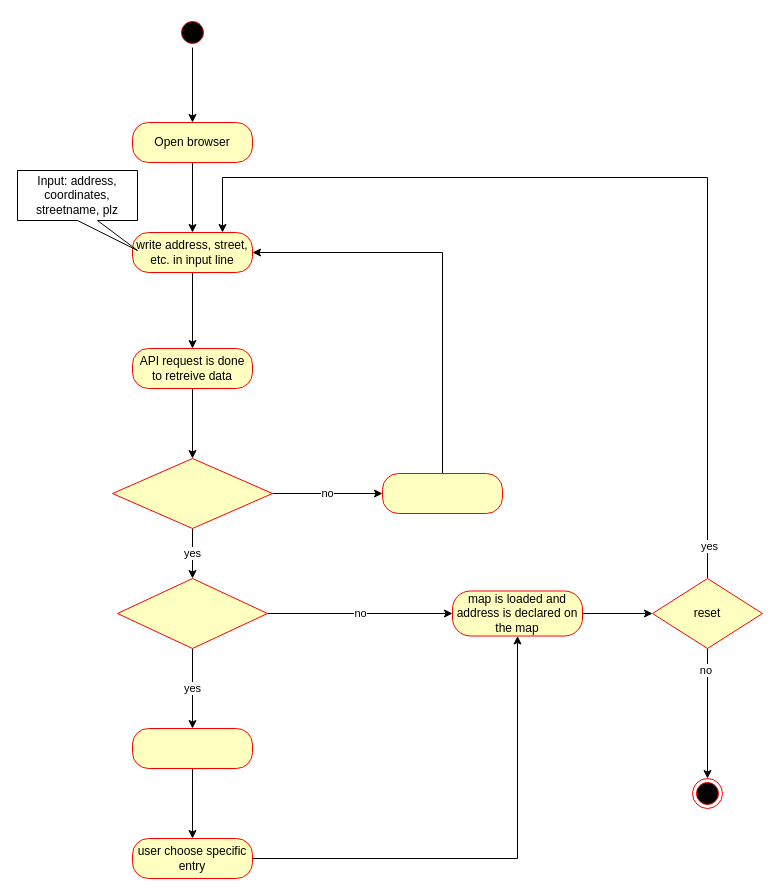
This 780x896 diagram has some shape labels left out. Each missing label, with the centre of its shape:
found results: [192,493]
Info to frotend for user: [442,493]
list results for user to frontend: [192,748]
multiple results: [192,613]
